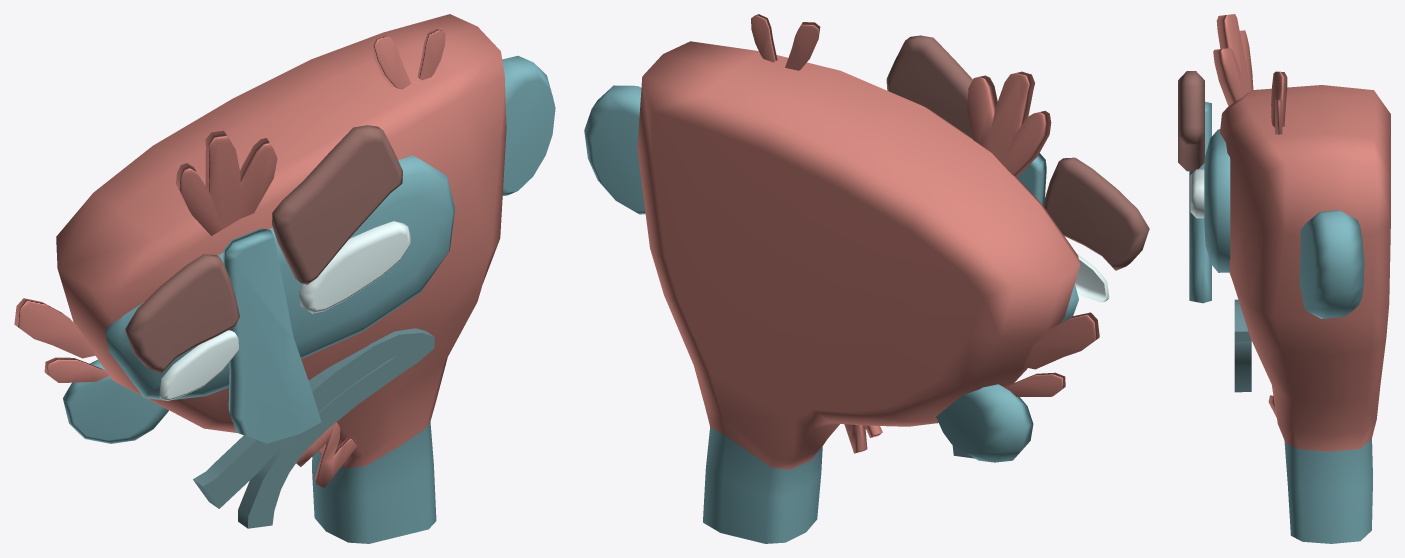
The model's file is head.fbx.
3 views of the same model, side by side, from view 1: azimuth 30°, elevation 25°; view 2: azimuth 150°, elevation 25°; view 3: azimuth 270°, elevation 25° (orthographic). The views are drawn at different scales.
Visible parts, largest first — view 1: Head1; view 2: Head1; view 3: Head1.
Part boxes in pixels (x1,y1,x2,y2): Head1: [14, 14, 555, 543]; Head1: [584, 14, 1149, 543]; Head1: [1178, 14, 1390, 543].
Size of the model in its own units: 33.54 by 30.53 by 13.38.
